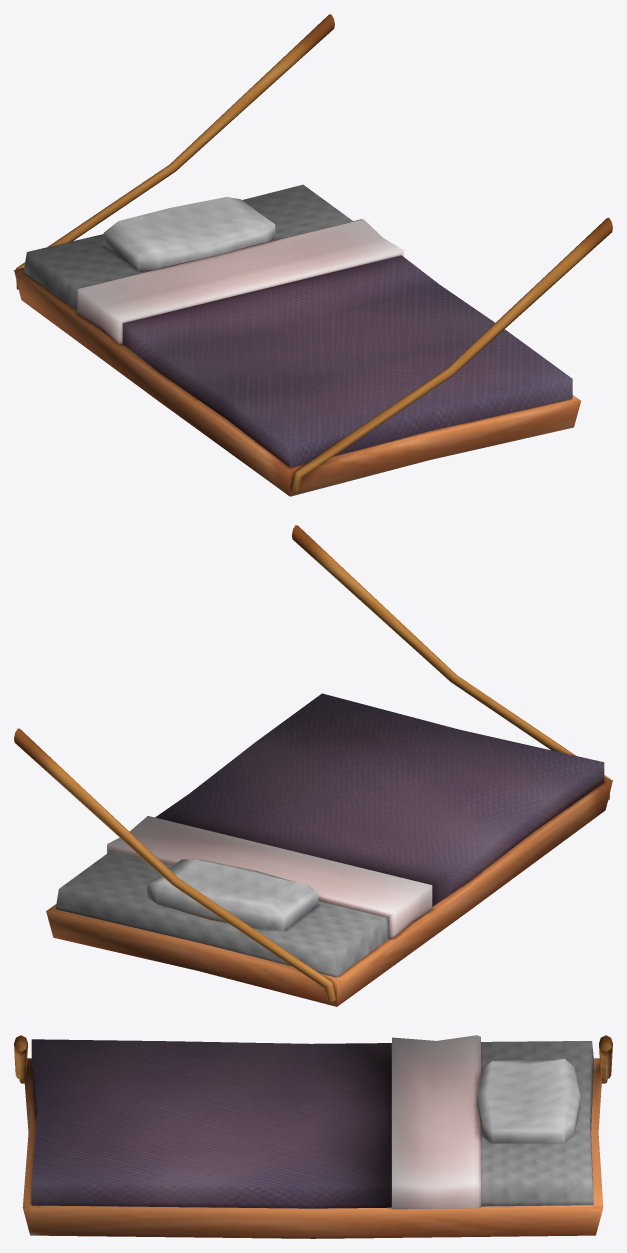
File: Bed2.fbx
3 renders of one model, top to bottom at view 1: azimuth 30°, elevation 25°; view 2: azimuth 150°, elevation 25°; view 3: azimuth 270°, elevation 25°, orthographic. The views are drawn at different scales.
Parts seen in each view (by area): view 1: Bed MODULO 05; view 2: Bed MODULO 05; view 3: Bed MODULO 05.
Part boxes in pixels (bbox=[...]): Bed MODULO 05: bbox=[14, 14, 612, 496]; Bed MODULO 05: bbox=[14, 525, 612, 1006]; Bed MODULO 05: bbox=[14, 1035, 612, 1238].
Size of the model in its own units: 108 by 67.35 by 167.
